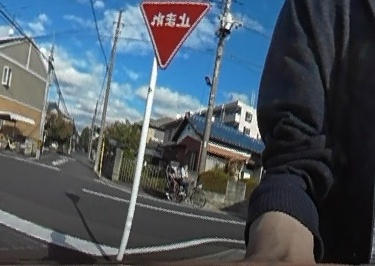person: (175, 160, 191, 192)
